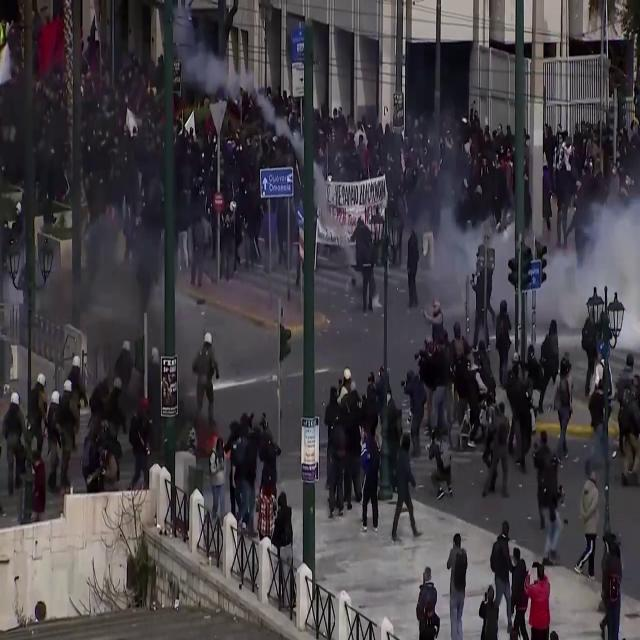Smoke: (27, 194, 167, 386), (414, 151, 520, 335), (540, 172, 640, 358), (170, 19, 240, 109)
